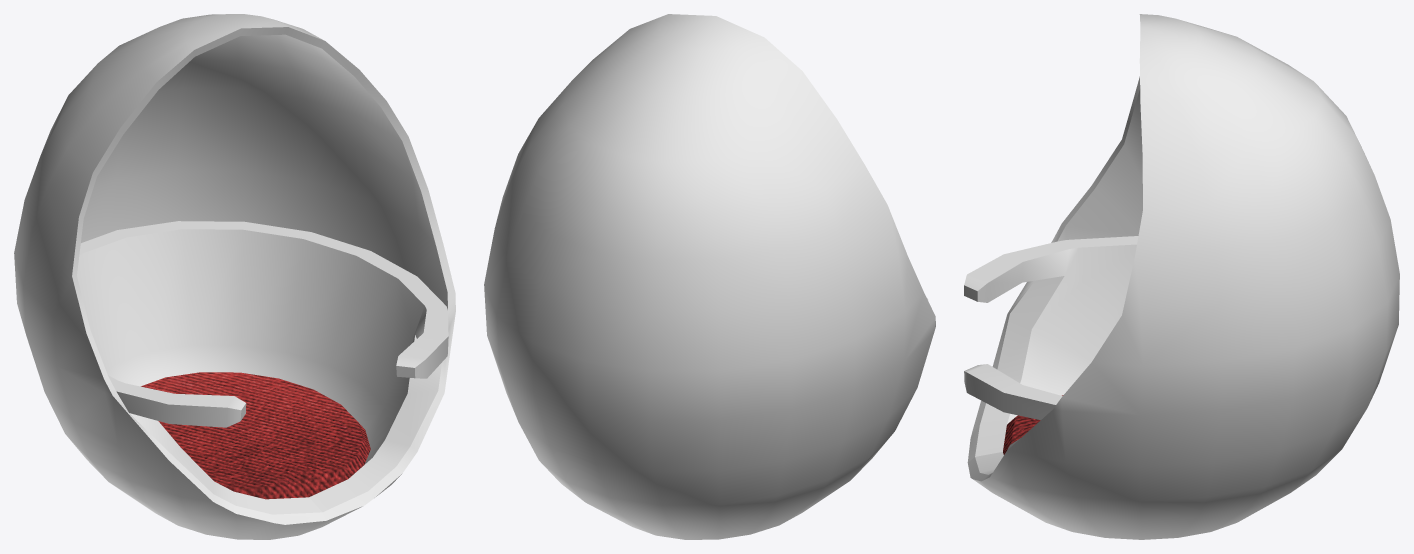
The model's file is isu.fbx.
3 renders of one model, left to right at view 1: azimuth 30°, elevation 25°; view 2: azimuth 150°, elevation 25°; view 3: azimuth 270°, elevation 25°, orthographic. The views are drawn at different scales.
Visible parts, largest first — view 1: polySurface3; view 2: polySurface3; view 3: polySurface3.
Boxes of the visible parts, x1,y1,x2,y2 form: polySurface3: [14, 14, 455, 539]; polySurface3: [484, 14, 935, 539]; polySurface3: [964, 14, 1399, 539].
Size of the model in its own units: 26.47 by 33.29 by 26.48.
1 material, 1 textured.
